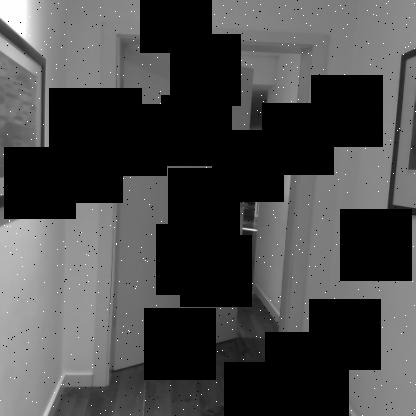Porte: (89, 20, 333, 390)
